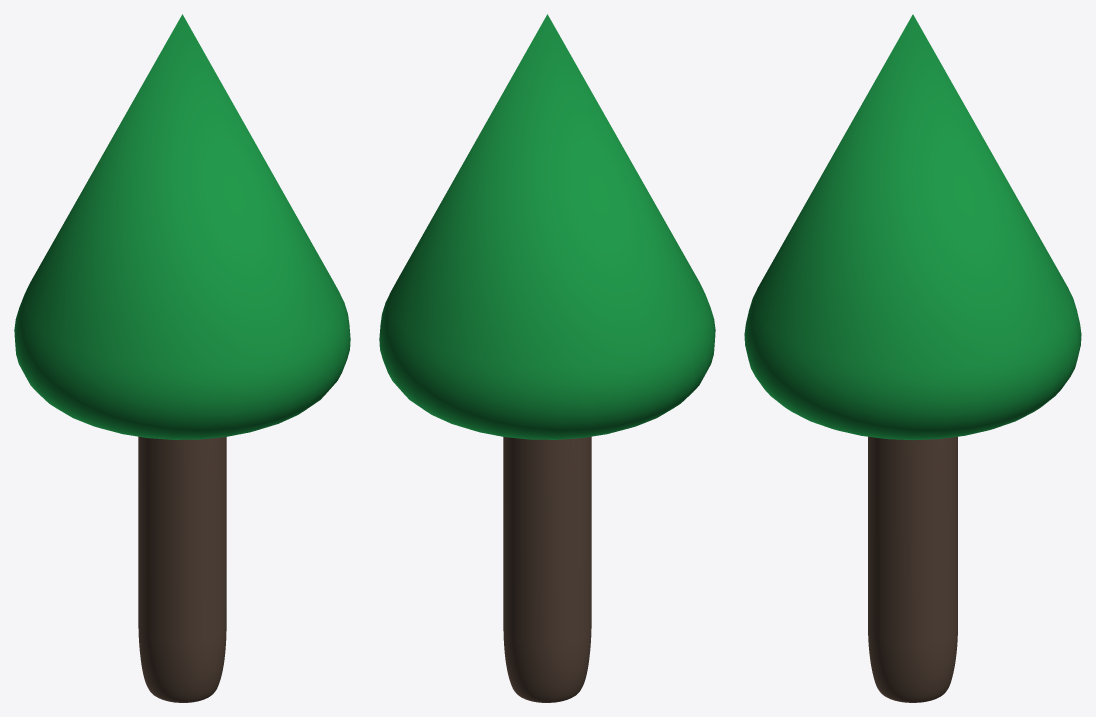
File: tree.fbx
3 renders of one model, left to right at view 1: azimuth 30°, elevation 25°; view 2: azimuth 150°, elevation 25°; view 3: azimuth 270°, elevation 25°, orthographic.
Parts seen in each view (by area): view 1: Cone, Cylinder; view 2: Cone, Cylinder; view 3: Cone, Cylinder.
Part boxes in pixels (bbox=[...]): Cone: bbox=[14, 14, 350, 439]; Cylinder: bbox=[138, 436, 226, 702]; Cone: bbox=[379, 14, 715, 439]; Cylinder: bbox=[503, 436, 591, 702]; Cone: bbox=[744, 14, 1081, 440]; Cylinder: bbox=[868, 436, 957, 702].
Size of the model in its own units: 281 by 622 by 281.
